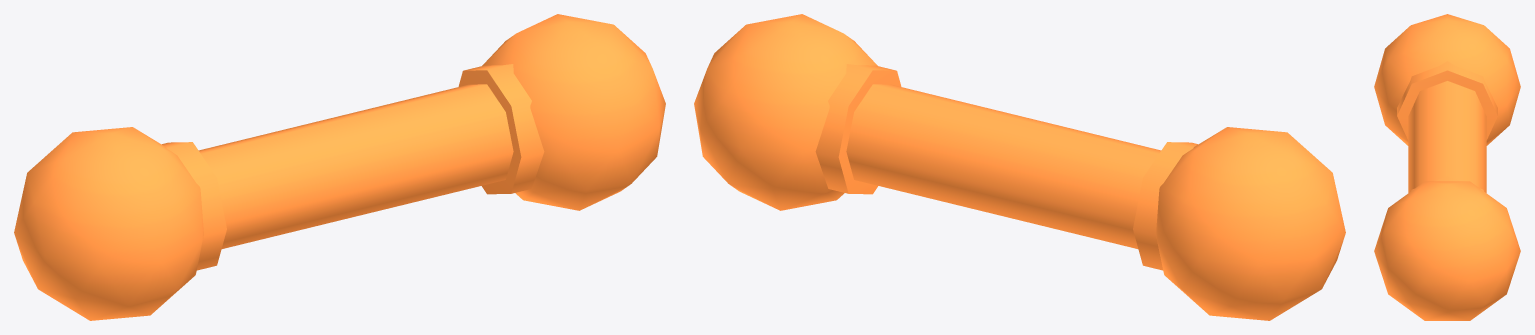
The model's file is bronze_guard_066.glb.
The picture shows the model from 3 angles, left to right: view 1: azimuth 30°, elevation 25°; view 2: azimuth 150°, elevation 25°; view 3: azimuth 270°, elevation 25°; orthographic projection. The views are drawn at different scales.
Visible parts, largest first — view 1: bronze_guard_066; view 2: bronze_guard_066; view 3: bronze_guard_066.
Part boxes in pixels (x1,y1,x2,y2): bronze_guard_066: (14, 14, 665, 320); bronze_guard_066: (694, 14, 1345, 320); bronze_guard_066: (1374, 14, 1520, 320).
Size of the model in its own units: 7.5 by 2.08 by 2.08.
Materials: 1 (1 with a texture image).
